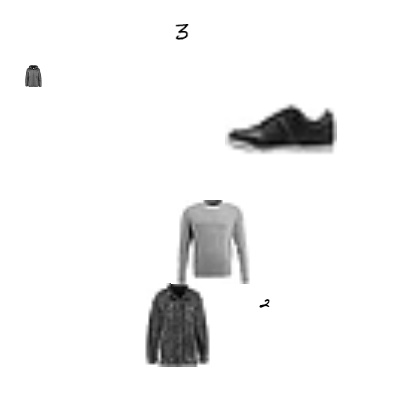2: (258, 297, 272, 311)
3: (171, 20, 193, 42)
Coat: (134, 283, 218, 367), (22, 65, 44, 87)
Pullover: (171, 200, 255, 284)
Sneaker: (225, 73, 337, 185)
